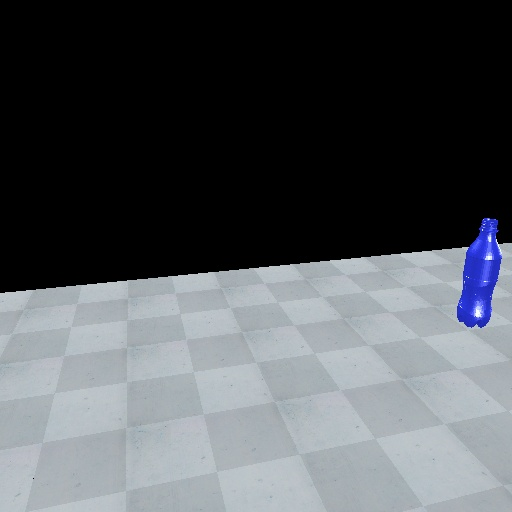bottle: (455, 214, 502, 329)
